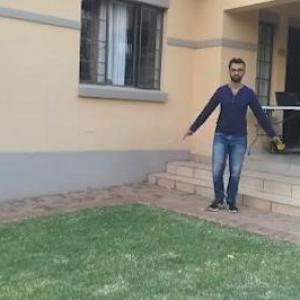land: (180, 68, 278, 223)
